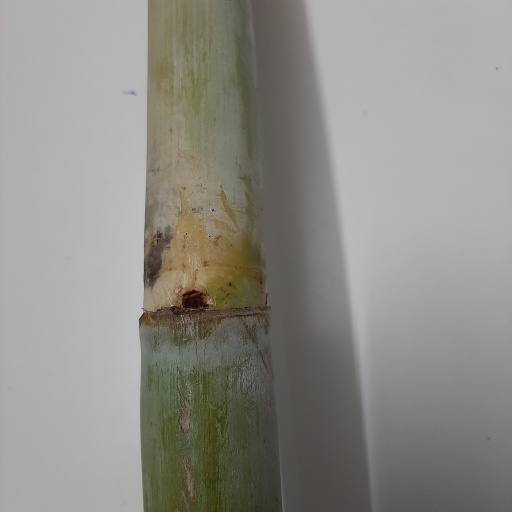Damage_Bud: (177, 286, 211, 311)
